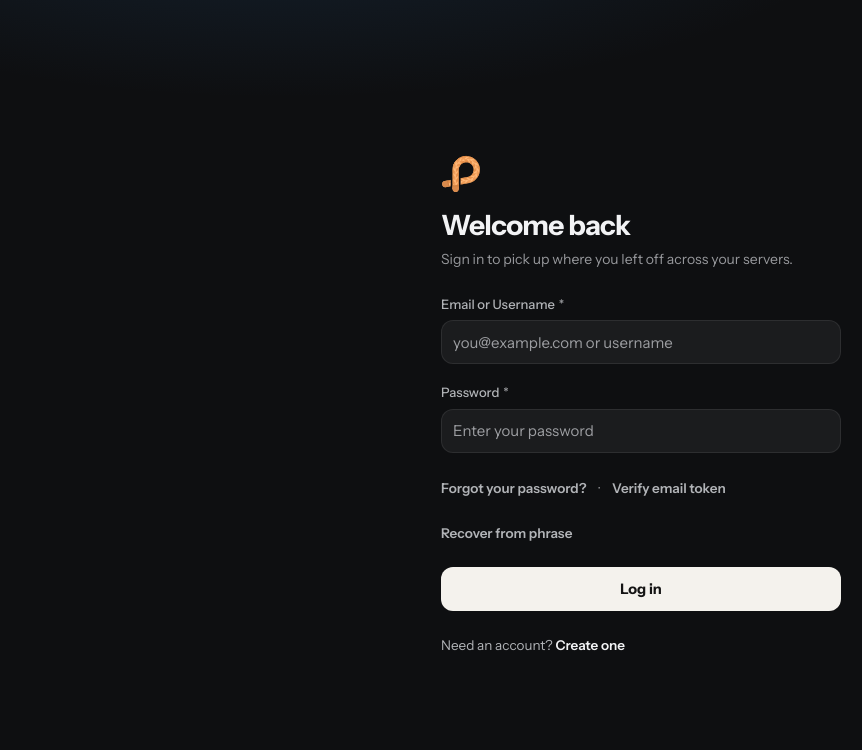
Test: LoginPage password reset and MFA flows › requests a reset token and submits a matching new password
Click the button "Forgot your password?": point(514, 488) [441,478,587,498]
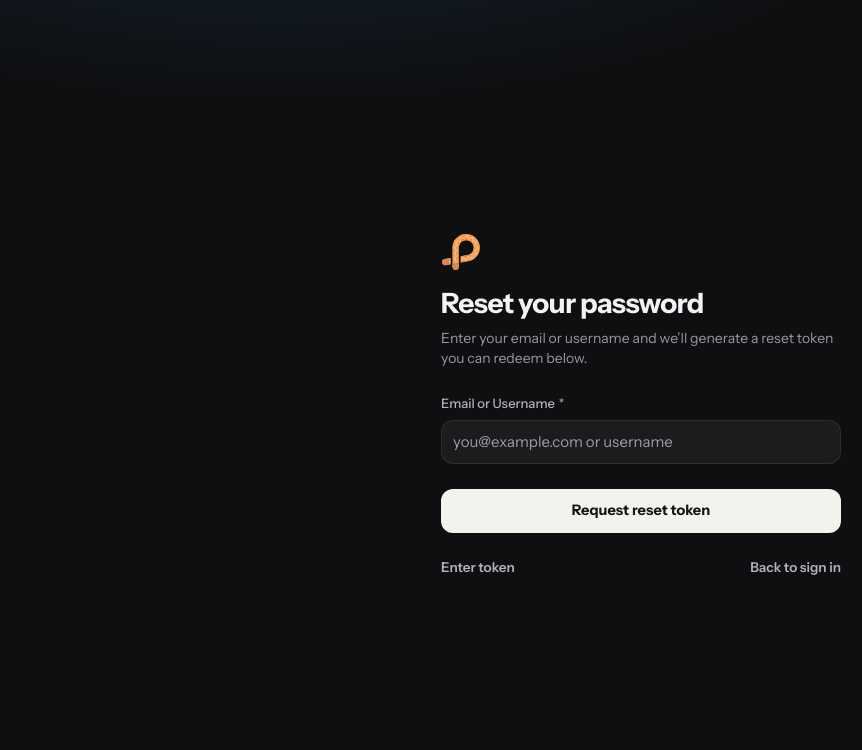
In the field labelled "Email or Username *": point(641, 442) [441,420,841,464], type "reset@example.com"
Click the button "Request reset token": point(641, 511) [441,489,841,533]
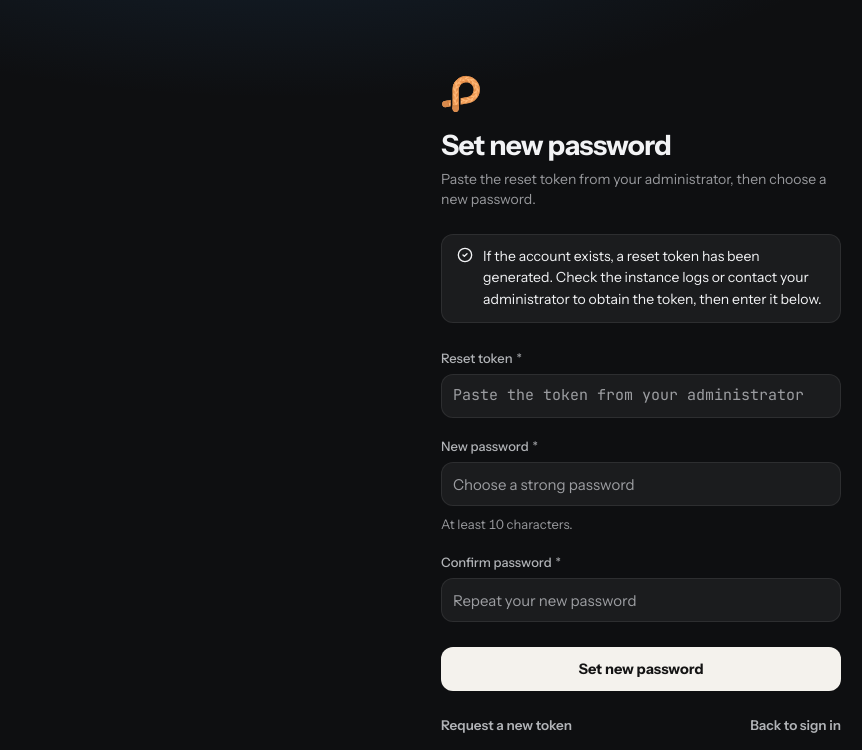
Expected: the heading "Set new password" is shown, [441,128,671,162]
Expected: the text "reset token has been generated" is shown, [483,247,822,308]
In the field labelled "Reset token *": point(641, 396) [441,374,841,418], type "reset-token"
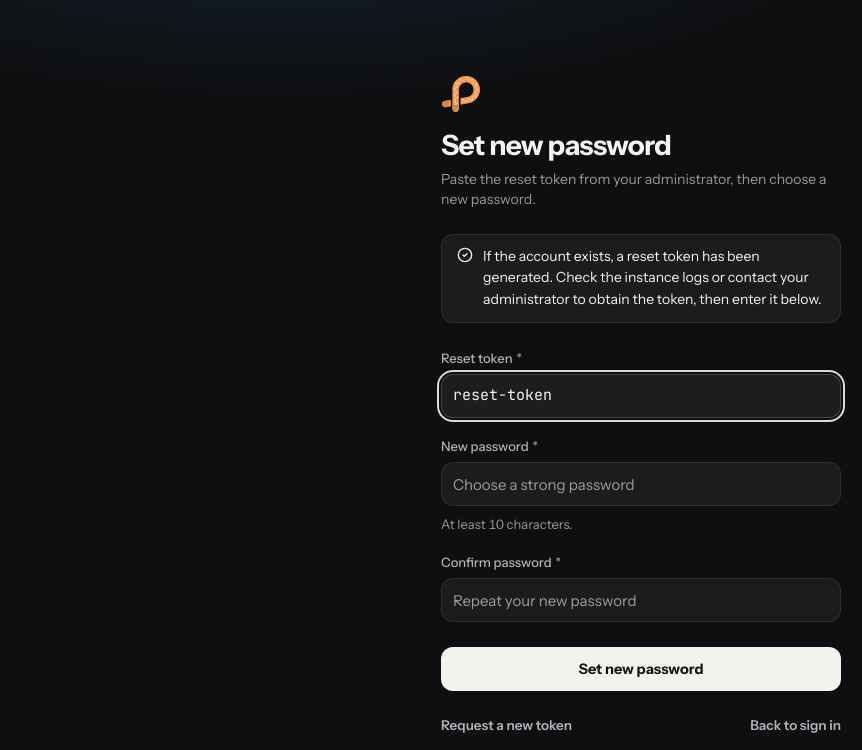
In the password field labelled "New password *": point(641, 484) [441,462,841,506], type "NewPassword123!"
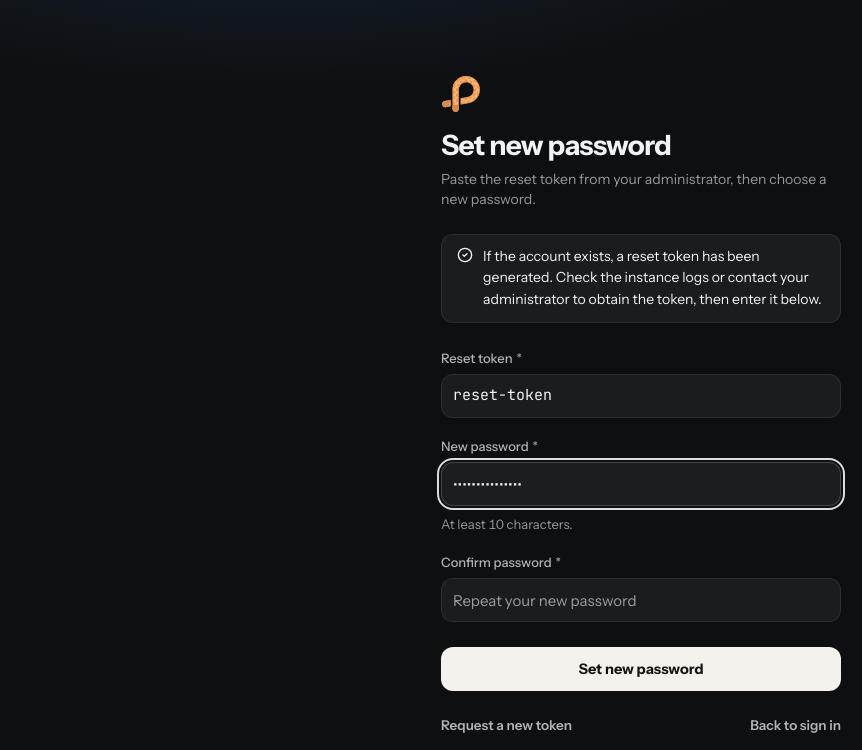
In the password field labelled "Confirm password *": point(641, 600) [441,578,841,622], type "NewPassword123!"
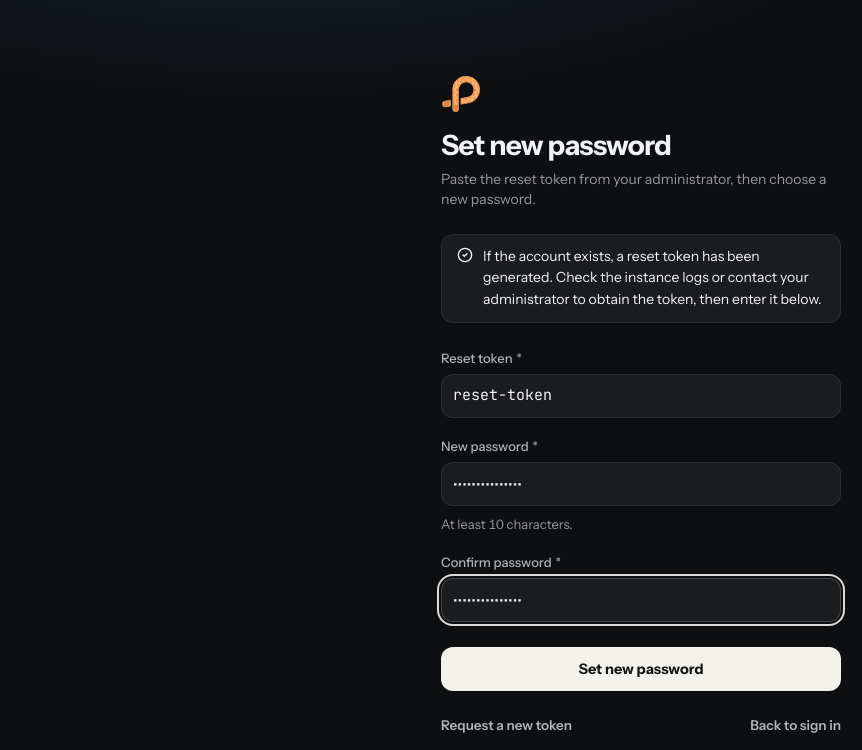
Click the button "Set new password": point(641, 669) [441,647,841,691]
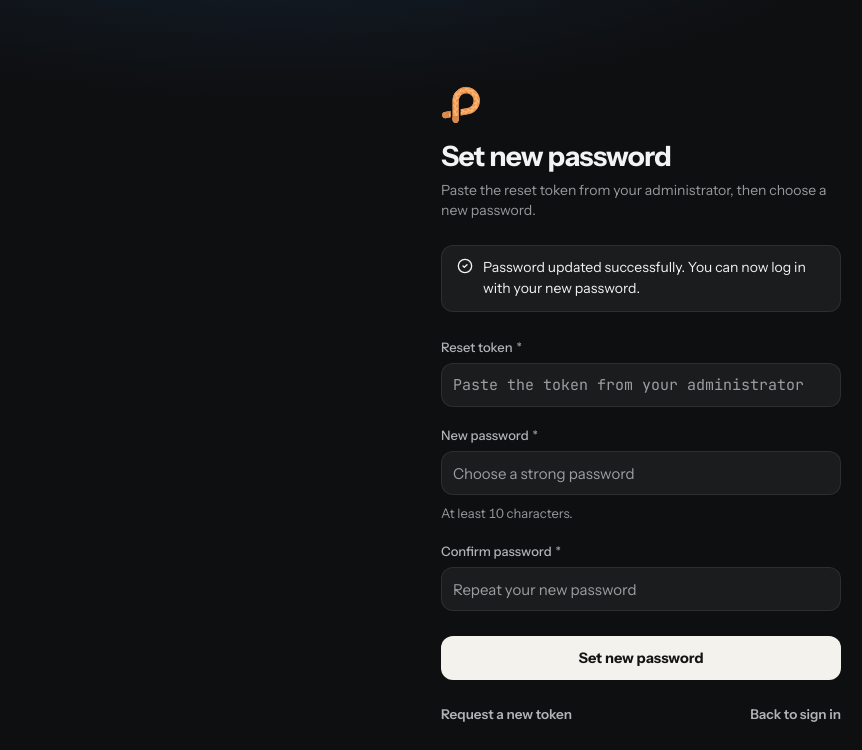
Expected: the text "Password updated successfully" is shown, [483,258,806,297]
